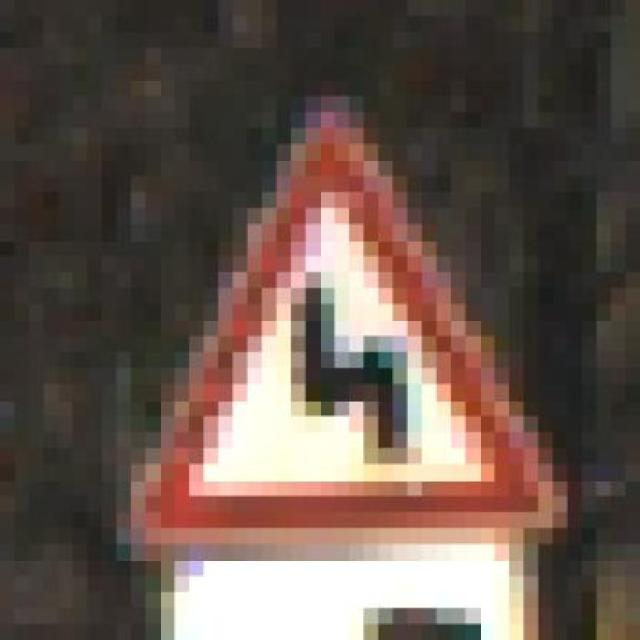Left Zig Zag Traffic: (87, 80, 567, 528)
